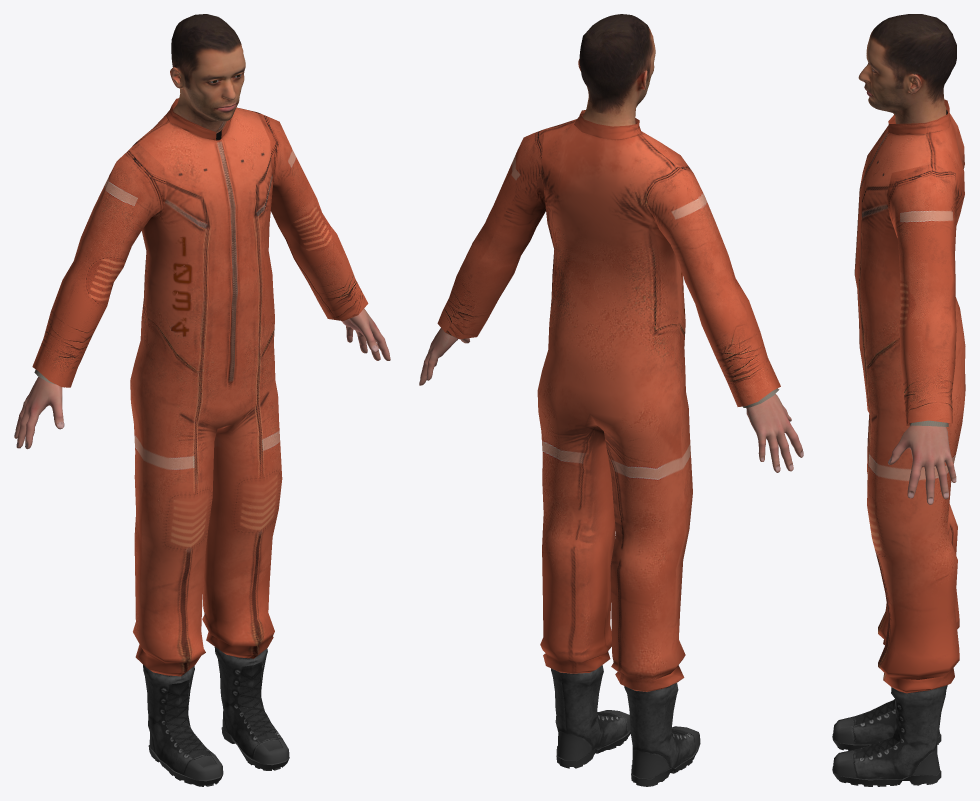
File: SCP_ClassD.gltf
The picture shows the model from 3 angles, left to right: view 1: azimuth 30°, elevation 25°; view 2: azimuth 150°, elevation 25°; view 3: azimuth 270°, elevation 25°; orthographic projection. The views are drawn at different scales.
Parts seen in each view (by area): view 1: Class D, base.obj; view 2: Class D, base.obj; view 3: Class D, base.obj.
Part boxes in pixels (x1,y1,x2,y2): Class D: (14, 98, 390, 786); base.obj: (170, 14, 245, 133); Class D: (419, 110, 803, 786); base.obj: (578, 14, 655, 126); Class D: (832, 99, 965, 786); base.obj: (858, 14, 956, 123).
Size of the model in its own units: 1.35 by 2.59 by 0.4203.
Materials: 2 (2 with a texture image).
